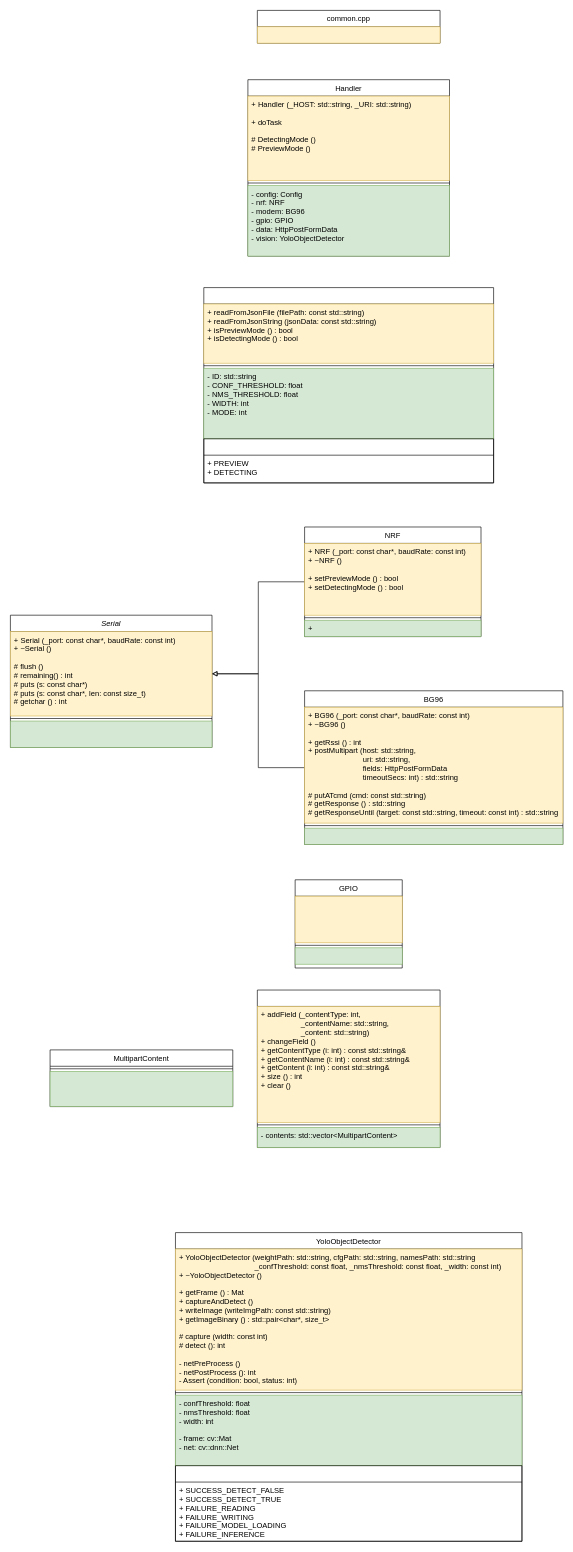
This 573x1552 diagram has some shape labels left out. The box of each missing label's shape, as (x1, y1, x2, y2) in pixels:
+ getISOCurrentTimestamp() : std::string: (257, 26, 440, 43)
+ GPIO (_rpiOffPin: const int) ~ GPIO () + shutdownRpi (): (295, 896, 402, 943)
- fd: int: (10, 720, 212, 747)
- rpiOffPin: int: (295, 947, 402, 964)
- type: std::string - name: std::string - data: std::string: (49, 1071, 233, 1107)
Config: (203, 287, 494, 483)
enum MODE: (203, 438, 494, 483)
enum STATUS: (175, 1465, 522, 1541)
HttpPostFormData: (257, 989, 440, 1148)
